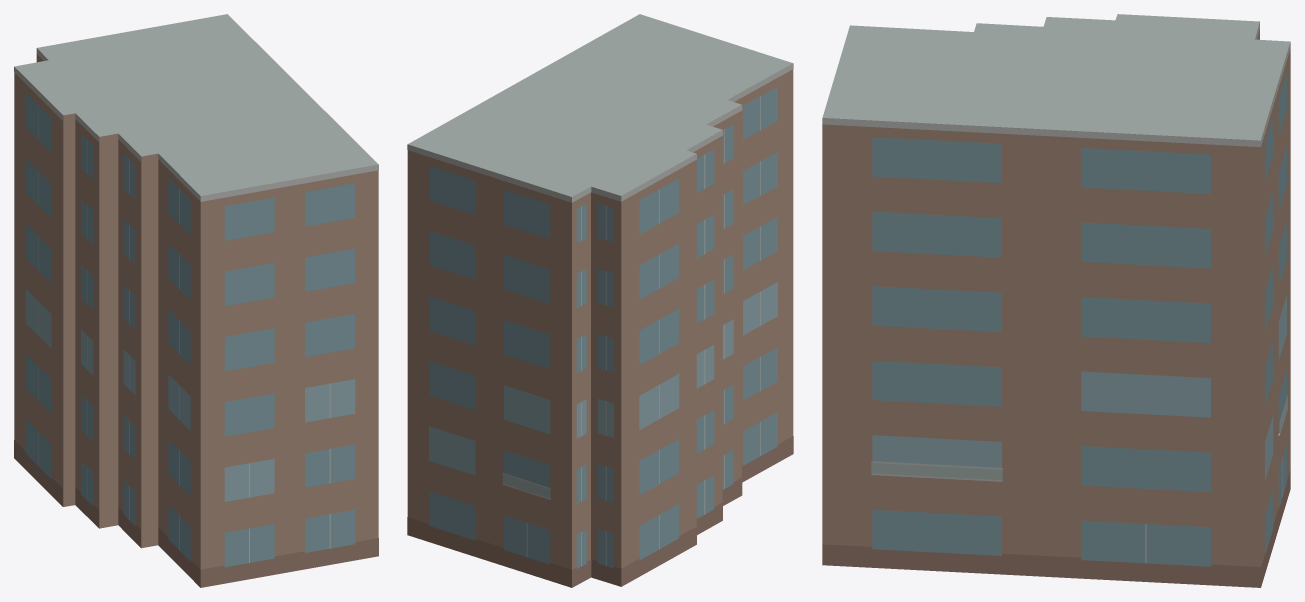
The model's file is survey-upis-32637968.glb.
3 views of the same model, side by side, from view 1: azimuth 30°, elevation 25°; view 2: azimuth 150°, elevation 25°; view 3: azimuth 270°, elevation 25° (orthographic). The views are drawn at different scales.
Parts seen in each view (by area): view 1: survey-upis-32637968.tmp; view 2: survey-upis-32637968.tmp; view 3: survey-upis-32637968.tmp.
Boxes of the visible parts, x1,y1,x2,y2 form: survey-upis-32637968.tmp: (14,14,378,587); survey-upis-32637968.tmp: (407,14,793,587); survey-upis-32637968.tmp: (822,14,1290,587).
Size of the model in its own units: 10.12 by 16.65 by 15.81.
